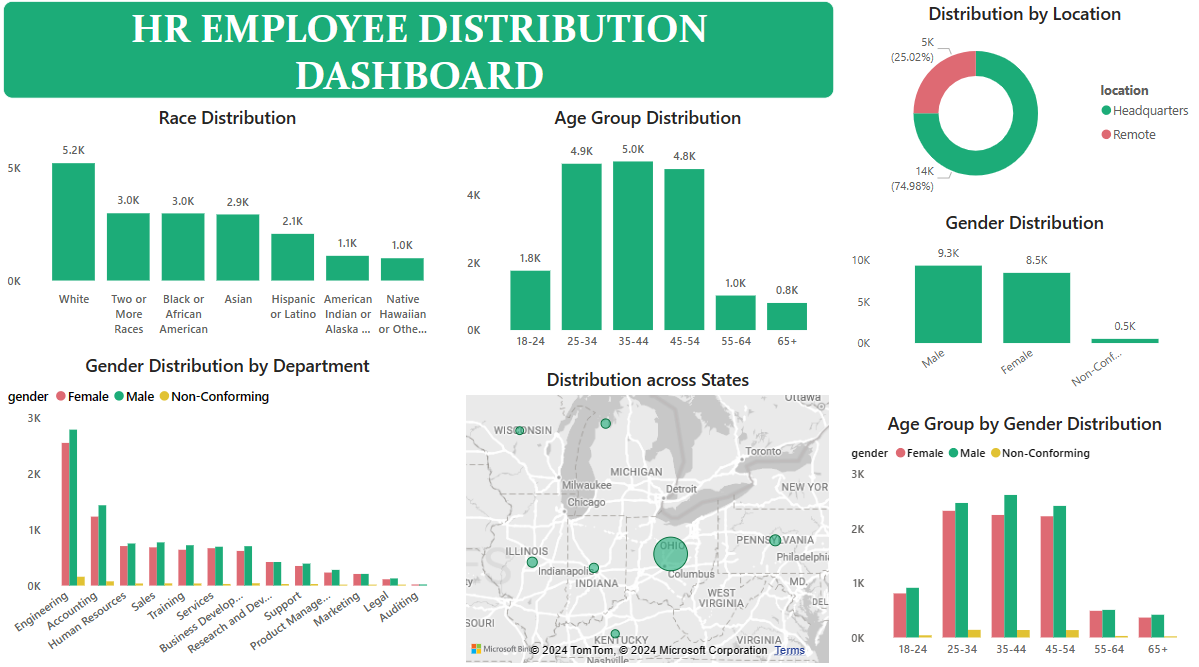

This screenshot's page, from the dashboard's own definition file:
{"tool":"powerbi","page":{"name":"Page 1","canvas":[1280,720],"ordinal":0},"visuals":[{"type":"clusteredColumnChart","title":"Gender Distribution","fields":{"Category":["gender breakdown.gender"],"Y":["Sum(gender breakdown.count)"]},"box":[898.3,226.7,376.7,203.3],"z":0},{"type":"lineClusteredColumnComboChart","title":"Gender Distribution by Department","fields":{"Category":["gender distribution vary across departments.department"],"Series":["gender distribution vary across departments.gender"],"Y":["Sum(gender distribution vary across departments.count)"]},"box":[5,378.3,475,331.7],"z":1000},{"type":"clusteredColumnChart","title":"Age Group Distribution","fields":{"Category":["age distribution.age_group"],"Y":["Sum(age distribution.count)"]},"box":[491.2,115,393.8,268.8],"z":2000},{"type":"clusteredColumnChart","title":"Race Distribution","fields":{"Category":["race breakdown.race"],"Y":["Sum(race breakdown.count)"]},"box":[5,115,475,253.3],"z":3000},{"type":"donutChart","title":"Distribution by Location","fields":{"Category":["employees work at headquarters versus remote locations.location"],"Y":["Sum(employees work at headquarters versus remote locations.count)"]},"box":[898.3,5,376.7,213.3],"z":4000},{"type":"map","title":"Distribution across States","fields":{"Category":["distribution of employees across locations by state.location_state"],"Size":["Sum(distribution of employees across locations by state.count)"]},"box":[491.2,392.5,393.8,317.5],"z":5000},{"type":"lineClusteredColumnComboChart","title":"Age Group by Gender Distribution","fields":{"Category":["age distribution by gender.age_group"],"Y":["Sum(age distribution by gender.count)"],"Series":["age distribution by gender.gender"]},"box":[898.3,440,376.7,270],"z":6000},{"type":"textbox","title":"HR EMPLOYEE DISTRIBUTION DASHBOARD","box":[5,5,880,103.3],"z":7000}]}

Visuals, with their boxes in screenshot pixels (x1, y1, x2, y2), scaled from the page's 1280x720 canvas onto the 1199x667 screenshot:
"Gender Distribution" clusteredColumnChart: 841,210,1194,398
"Gender Distribution by Department" lineClusteredColumnComboChart: 5,350,450,658
"Age Group Distribution" clusteredColumnChart: 460,107,829,356
"Race Distribution" clusteredColumnChart: 5,107,450,341
"Distribution by Location" donutChart: 841,5,1194,202
"Distribution across States" map: 460,364,829,658
"Age Group by Gender Distribution" lineClusteredColumnComboChart: 841,408,1194,658
"HR EMPLOYEE DISTRIBUTION DASHBOARD" textbox: 5,5,829,100
